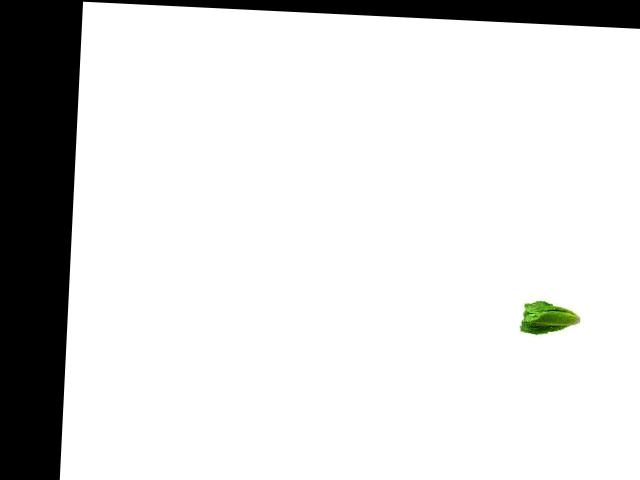lettuce: (517, 294, 583, 341)
